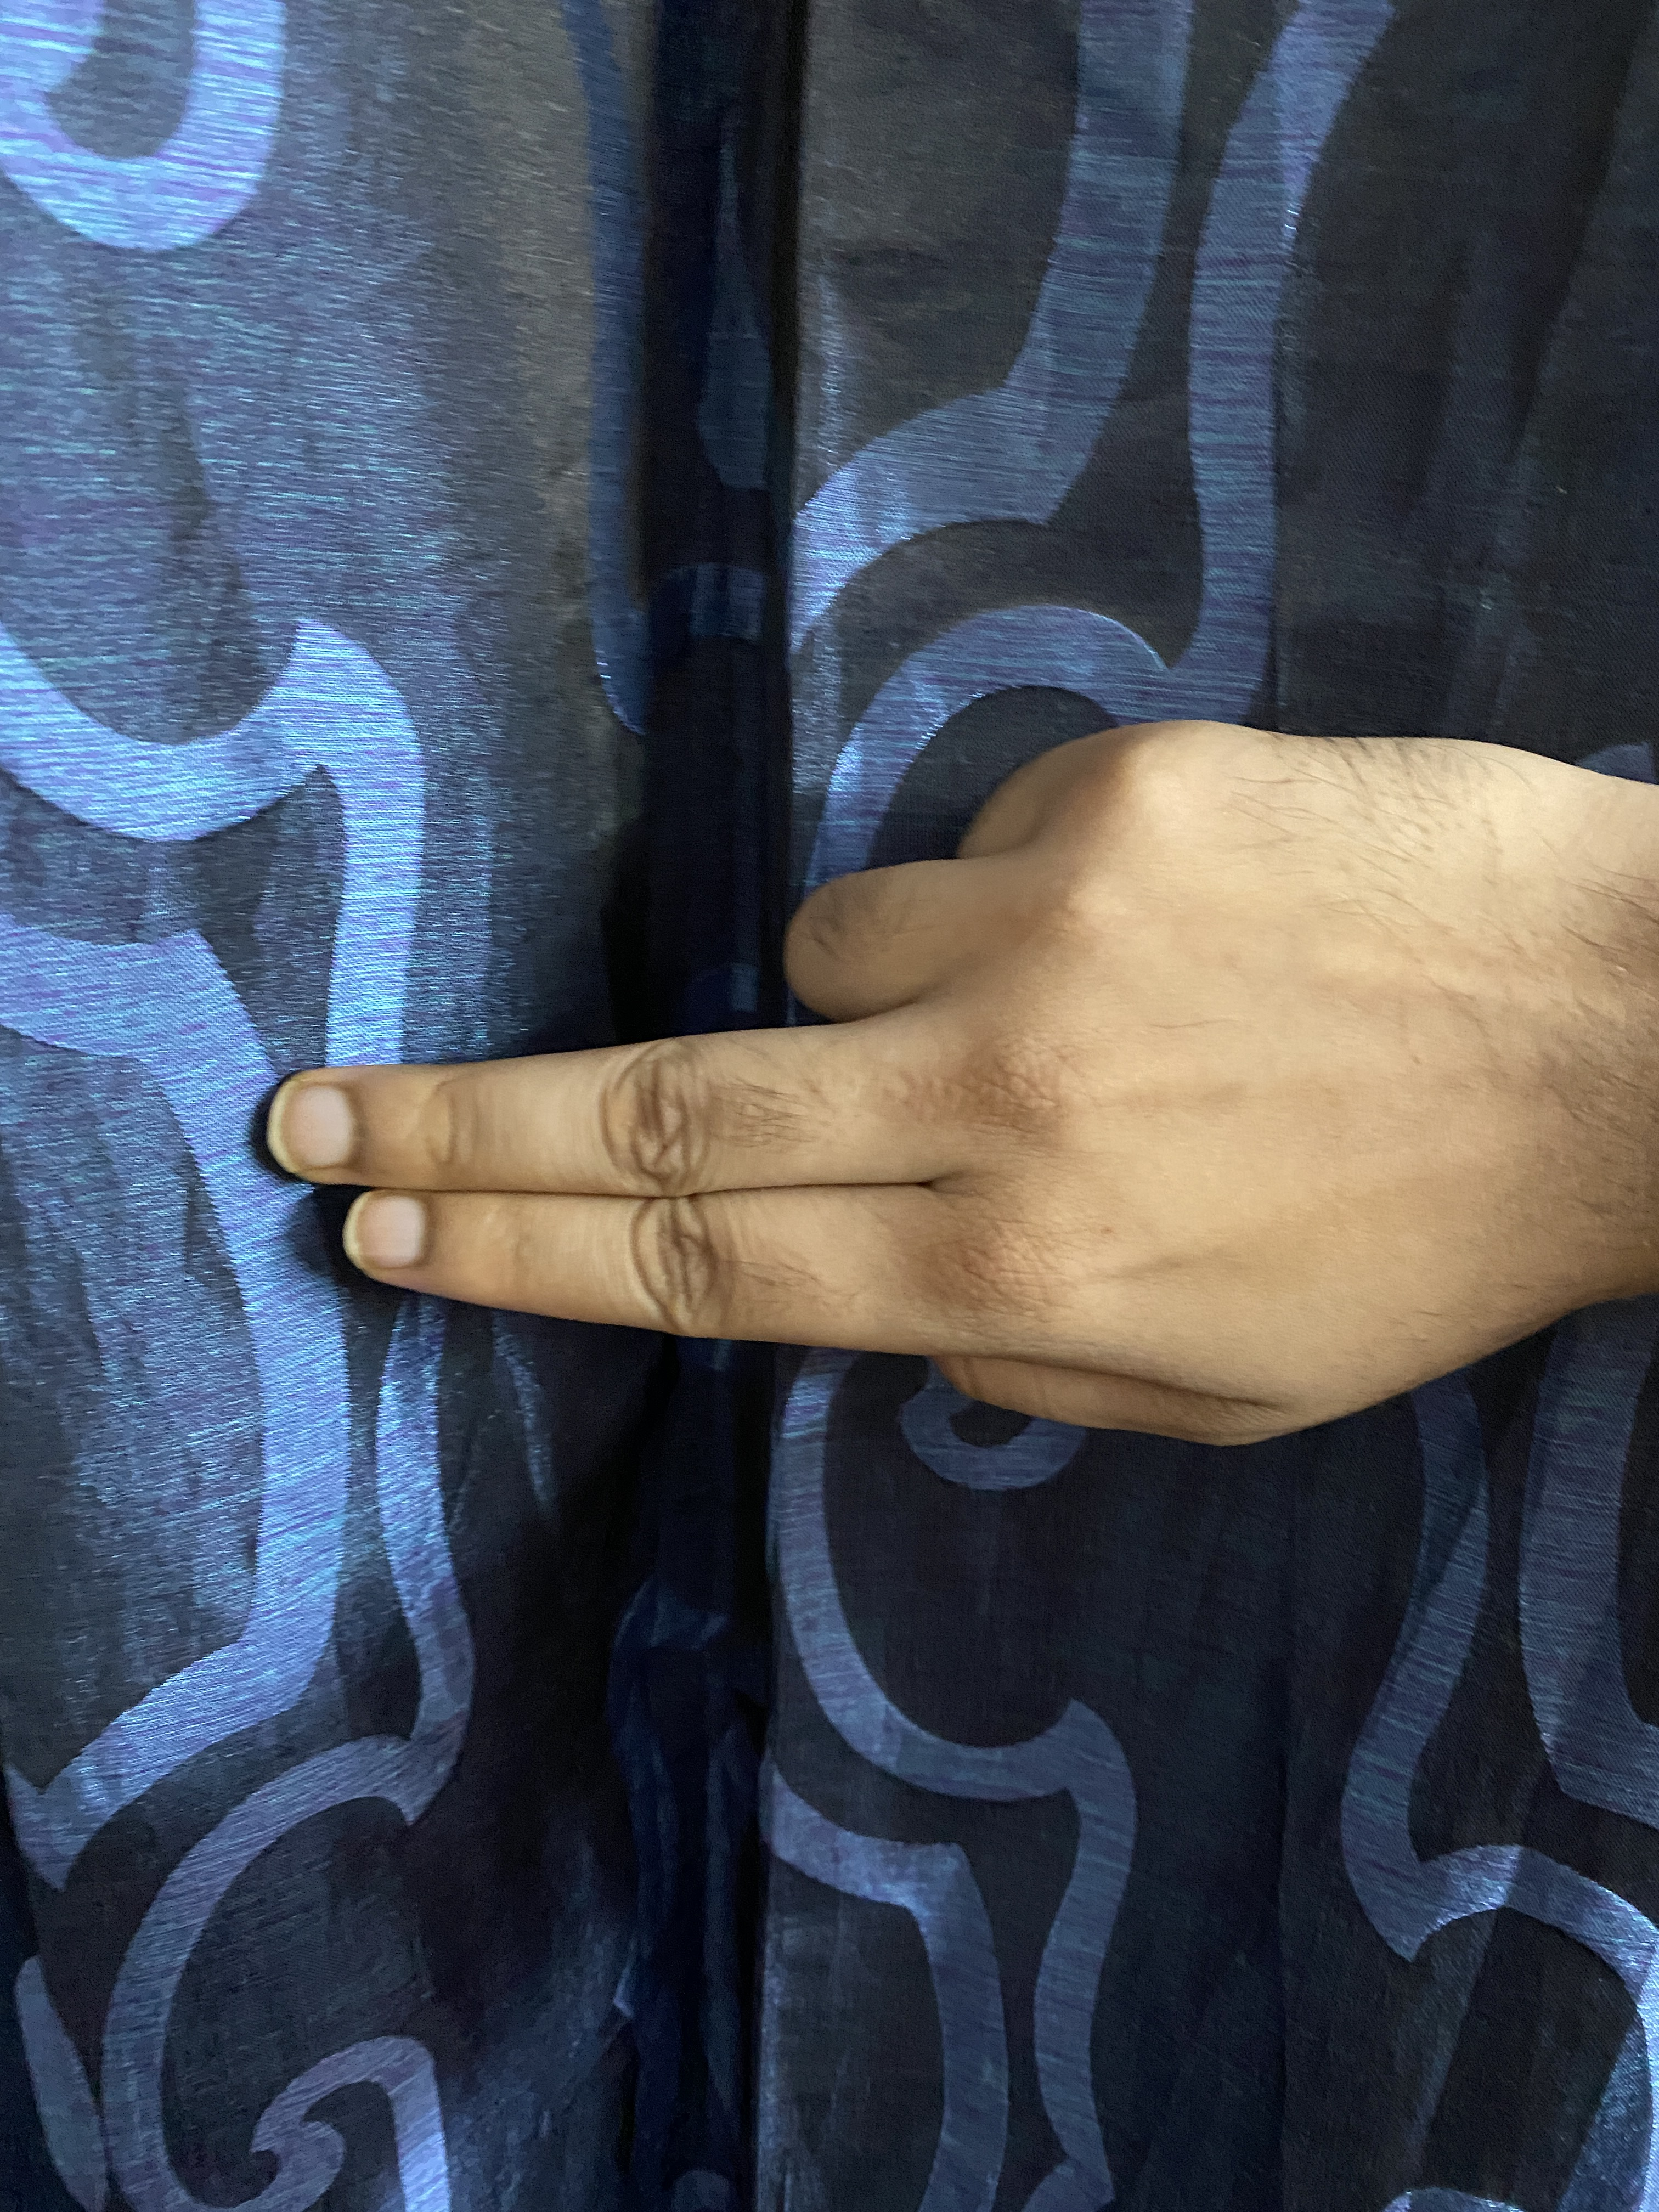right: (105, 374, 1659, 1522)
